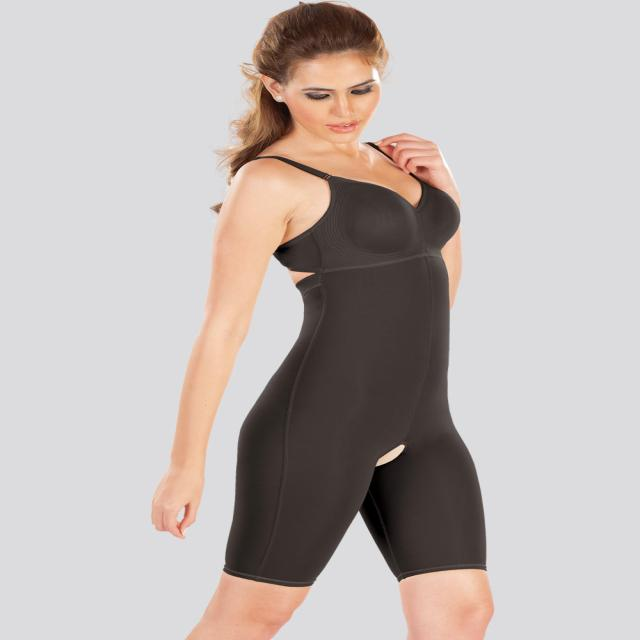adult: (146, 0, 498, 640)
